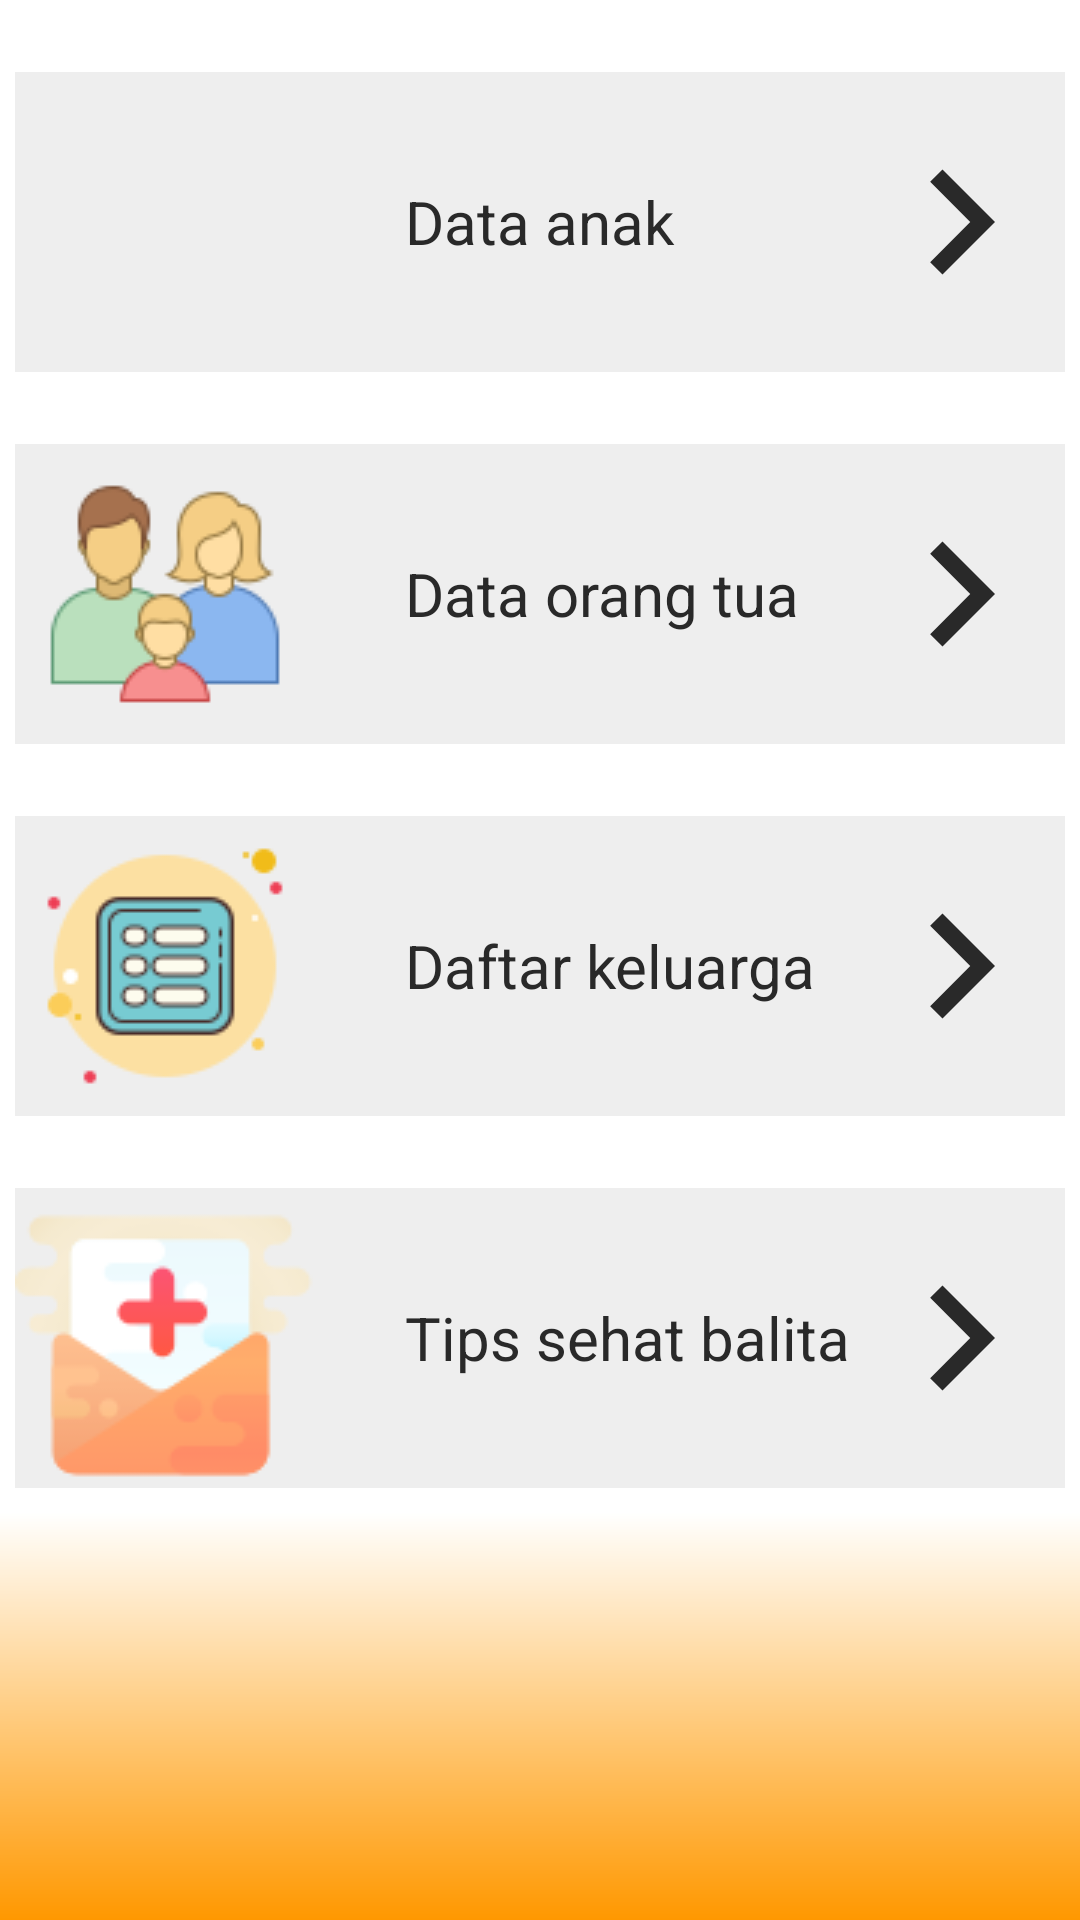

Where icons sit on this 1080px x 1920px app screen, as Rect(x1, y1, x2, y2):
chevron right: Rect(930, 169, 995, 275), Rect(930, 541, 995, 647), Rect(930, 913, 995, 1019), Rect(930, 1285, 995, 1391)
family: Rect(50, 485, 280, 703)
health: Rect(15, 1214, 312, 1477)
list: Rect(47, 848, 283, 1084)
